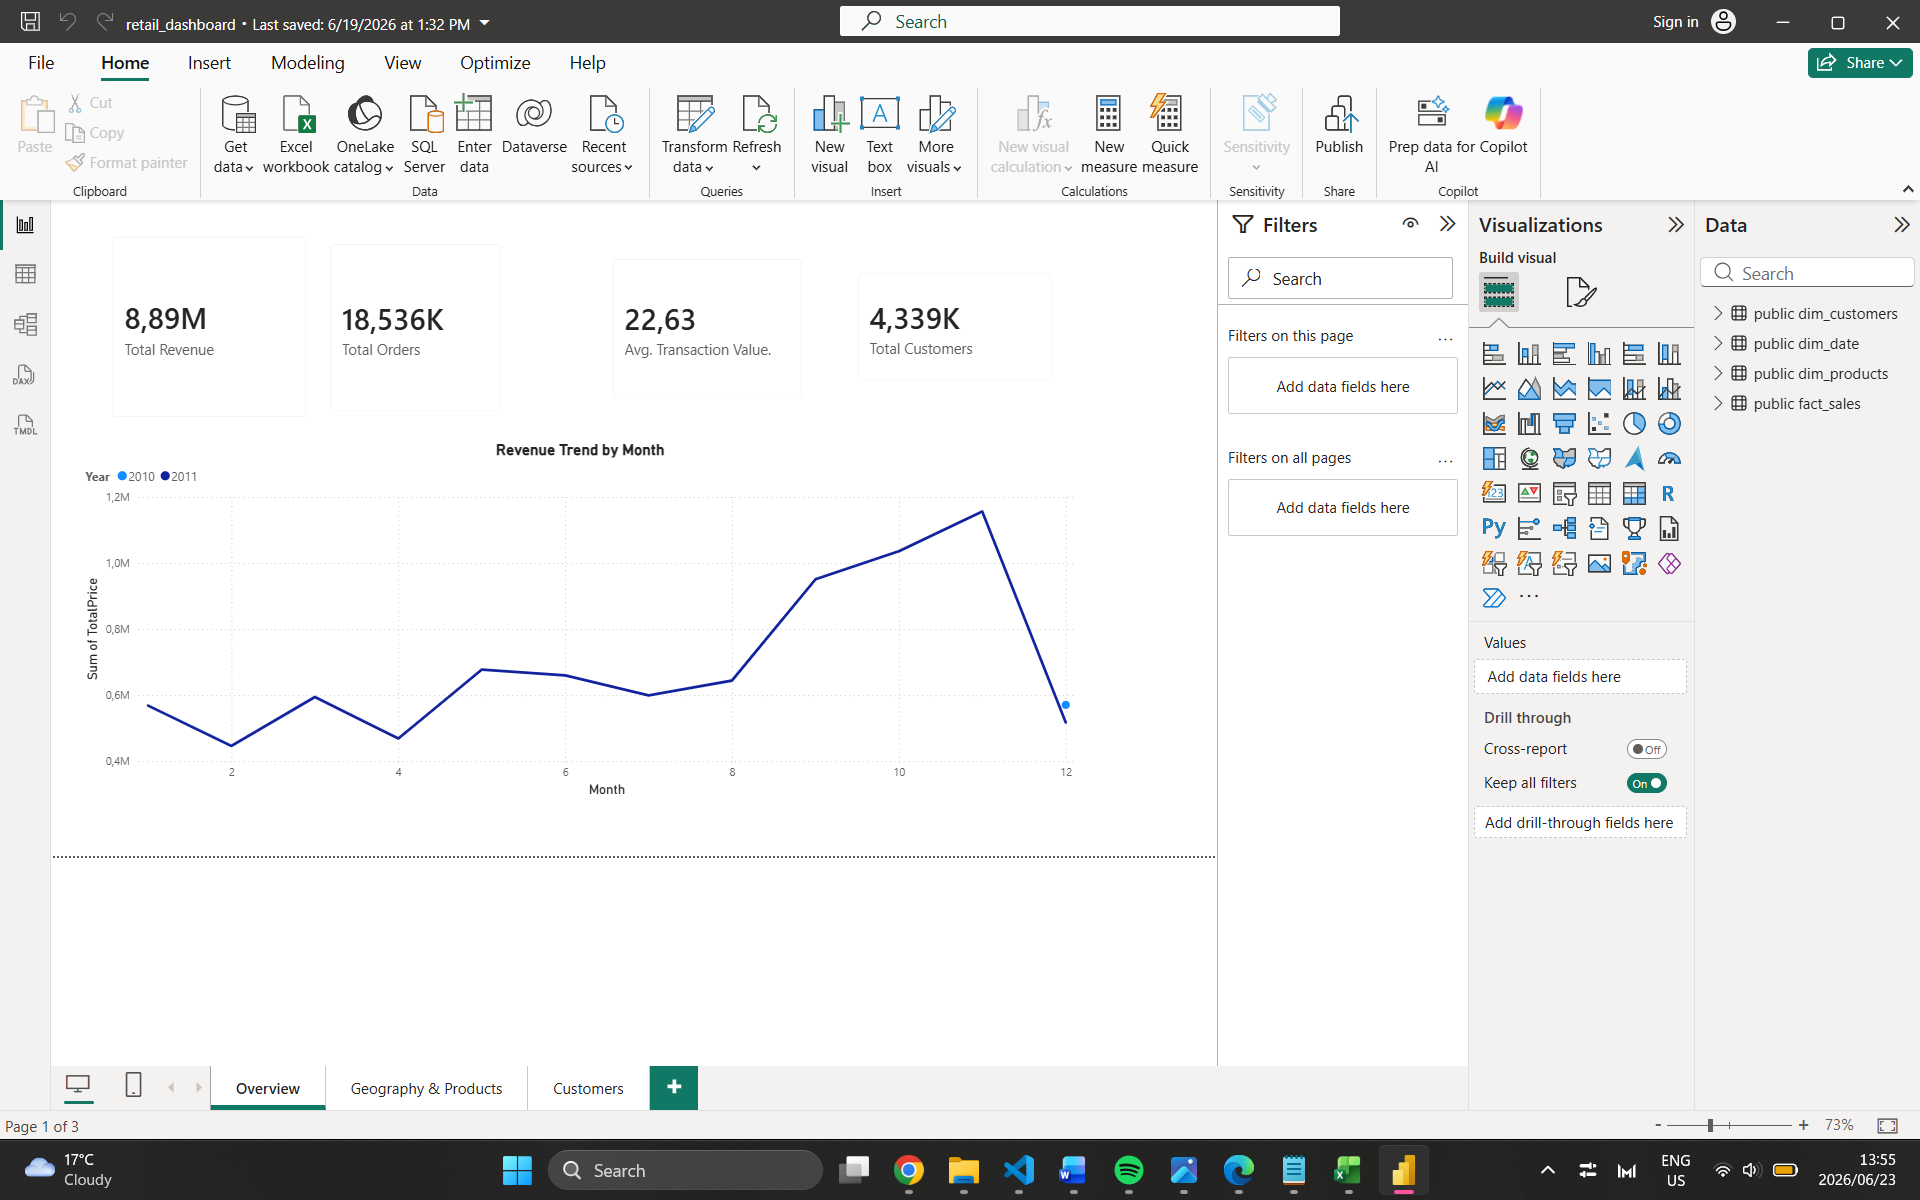

The page's visual inventory and layout, read from the dashboard file:
{"tool":"powerbi","page":{"name":"Overview","canvas":[1280,720],"ordinal":0},"visuals":[{"type":"cardVisual","fields":{"Data":["Sum(public fact_sales.TotalPrice)"]},"box":[51.2,23.8,247.5,232.5],"z":0},{"type":"cardVisual","fields":{"Data":["Count(public fact_sales.InvoiceNo)"]},"box":[290,31.2,222.5,217.5],"z":1000},{"type":"cardVisual","fields":{"Data":["Count(public dim_customers.CustomerID)"]},"box":[868.8,63.8,247.5,152.5],"z":2000},{"type":"cardVisual","fields":{"Data":["Avg(public fact_sales.TotalPrice)"]},"box":[600,47.5,242.5,185],"z":3000},{"type":"lineChart","title":"Revenue Trend by Month","fields":{"Category":["public dim_date.Month"],"Series":["public dim_date.Year"],"Y":["Sum(public fact_sales.TotalPrice)"]},"box":[32.5,263.8,1096.2,396.2],"z":4000}]}

Visuals, with their boxes on the page's 1280x720 design canvas (x1, y1, x2, y2). These are canvas units, not pixel positions in the 1920x1200 screenshot, which may show the page scaled, cropped or inside an application window:
cardVisual - Sum(public fact_sales.TotalPrice): [x1=51, y1=24, x2=299, y2=256]
cardVisual - Count(public fact_sales.InvoiceNo): [x1=290, y1=31, x2=512, y2=249]
cardVisual - Count(public dim_customers.CustomerID): [x1=869, y1=64, x2=1116, y2=216]
cardVisual - Avg(public fact_sales.TotalPrice): [x1=600, y1=48, x2=842, y2=232]
"Revenue Trend by Month" lineChart: [x1=32, y1=264, x2=1129, y2=660]
